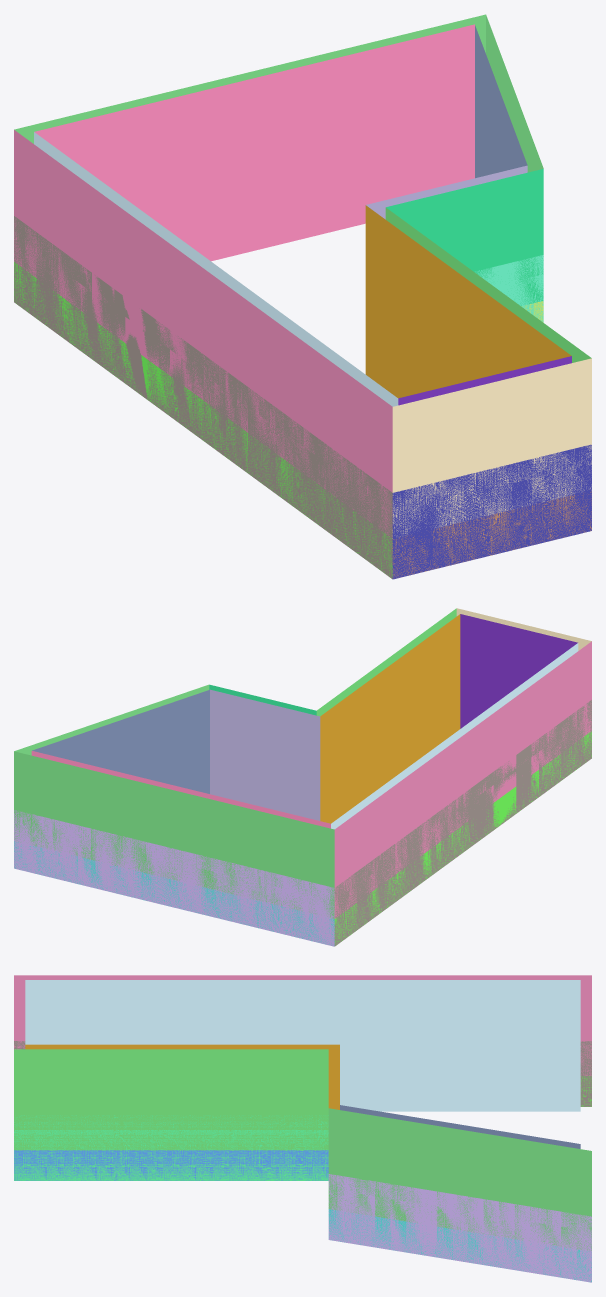
Rendered from FacadeGridByLevelsTest.gltf.
The picture shows the model from 3 angles, top to bottom: view 1: azimuth 30°, elevation 25°; view 2: azimuth 150°, elevation 25°; view 3: azimuth 270°, elevation 25°; orthographic projection. The views are drawn at different scales.
Parts seen in each view (by area): view 1: 667cd8ab-ddba-410d-ae8c-b6bbda80ff89_mesh (×21), a7a2904f-f86a-45a3-ad6d-d9158feebdc6_mesh (×32), 925de717-f222-4f68-ad24-28fbbe78da39_mesh (×13), 021ab711-f511-43f6-8350-6d886062a03a_mesh (×10), 59c1b4d6-6f34-4728-b1c5-1a4d416f4a45_mesh (×2); view 2: a5f523be-9666-439c-b785-f3ad27975c80_mesh (×25), 925de717-f222-4f68-ad24-28fbbe78da39_mesh (×19), 50bc66c3-baba-4dd5-bed8-770c97bfbeff_mesh (×8), a7a2904f-f86a-45a3-ad6d-d9158feebdc6_mesh (×25), dbe72125-ddce-4deb-9cd5-77c32e29993a_mesh (×10), b90422ba-7a13-411a-9a05-b1d727cad7be_mesh (×6); view 3: 7c0e55da-3dcd-4c2c-bbd3-14d747117d89_mesh (×33), a5f523be-9666-439c-b785-f3ad27975c80_mesh (×17), f5b6d49f-dd5e-4ac3-b1b2-c19e793c9b72_mesh (×19), 4b4a8b01-f75e-4d96-afd9-95de63506c00_mesh (×19), 64db2175-d495-4ce6-b570-95dbf533cb55_mesh (×2), 925de717-f222-4f68-ad24-28fbbe78da39_mesh, a7a2904f-f86a-45a3-ad6d-d9158feebdc6_mesh.
Part boxes in pixels (x1,y1,x2,y2): 667cd8ab-ddba-410d-ae8c-b6bbda80ff89_mesh (×21): [72, 24, 474, 261]; a7a2904f-f86a-45a3-ad6d-d9158feebdc6_mesh (×32): [14, 216, 392, 578]; 925de717-f222-4f68-ad24-28fbbe78da39_mesh (×13): [365, 205, 506, 398]; 021ab711-f511-43f6-8350-6d886062a03a_mesh (×10): [392, 444, 591, 579]; 59c1b4d6-6f34-4728-b1c5-1a4d416f4a45_mesh (×2): [504, 255, 543, 322]; a5f523be-9666-439c-b785-f3ad27975c80_mesh (×25): [14, 810, 334, 946]; 925de717-f222-4f68-ad24-28fbbe78da39_mesh (×19): [320, 614, 460, 823]; 50bc66c3-baba-4dd5-bed8-770c97bfbeff_mesh (×8): [210, 689, 320, 820]; a7a2904f-f86a-45a3-ad6d-d9158feebdc6_mesh (×25): [334, 705, 584, 946]; dbe72125-ddce-4deb-9cd5-77c32e29993a_mesh (×10): [91, 690, 209, 793]; b90422ba-7a13-411a-9a05-b1d727cad7be_mesh (×6): [460, 614, 538, 728]; 7c0e55da-3dcd-4c2c-bbd3-14d747117d89_mesh (×33): [25, 980, 580, 1111]; a5f523be-9666-439c-b785-f3ad27975c80_mesh (×17): [328, 1174, 591, 1282]; f5b6d49f-dd5e-4ac3-b1b2-c19e793c9b72_mesh (×19): [14, 1115, 328, 1180]; 4b4a8b01-f75e-4d96-afd9-95de63506c00_mesh (×19): [14, 1150, 328, 1180]; 64db2175-d495-4ce6-b570-95dbf533cb55_mesh (×2): [375, 1216, 452, 1259]; 925de717-f222-4f68-ad24-28fbbe78da39_mesh: [323, 1044, 339, 1109]; a7a2904f-f86a-45a3-ad6d-d9158feebdc6_mesh: [580, 1041, 591, 1106].
Size of the model in its own units: 74.11 by 25.91 by 103.
